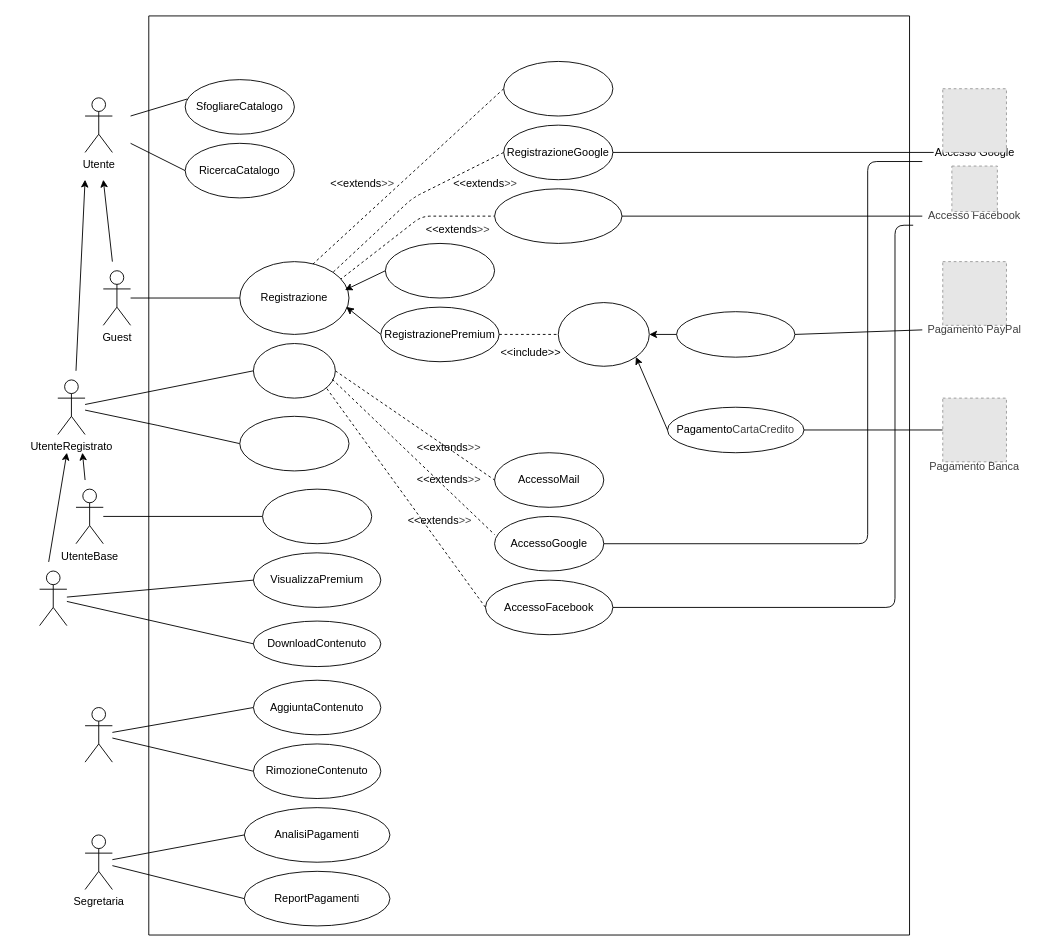
Image size: 1043x951. Some labels were removed from this diagram. Grey dashed boxes stand in for pictures. Here are the shapes that lost their labels. From the top down, the box of each, then its label:
(503, 61, 613, 116): RegistrazioneMail
(494, 188, 622, 243): RegistrazioneFacebook
(384, 243, 495, 298): RegistrazioneBase
(557, 302, 649, 366): Pagamento
(676, 311, 795, 357): PagamentoPayPal
(253, 343, 335, 398): Login
(239, 415, 349, 471): CancellazioneReg
(262, 488, 372, 544): VisualizzaBase
(39, 570, 67, 626): UtentePremium
(84, 707, 112, 762): Amministratore
